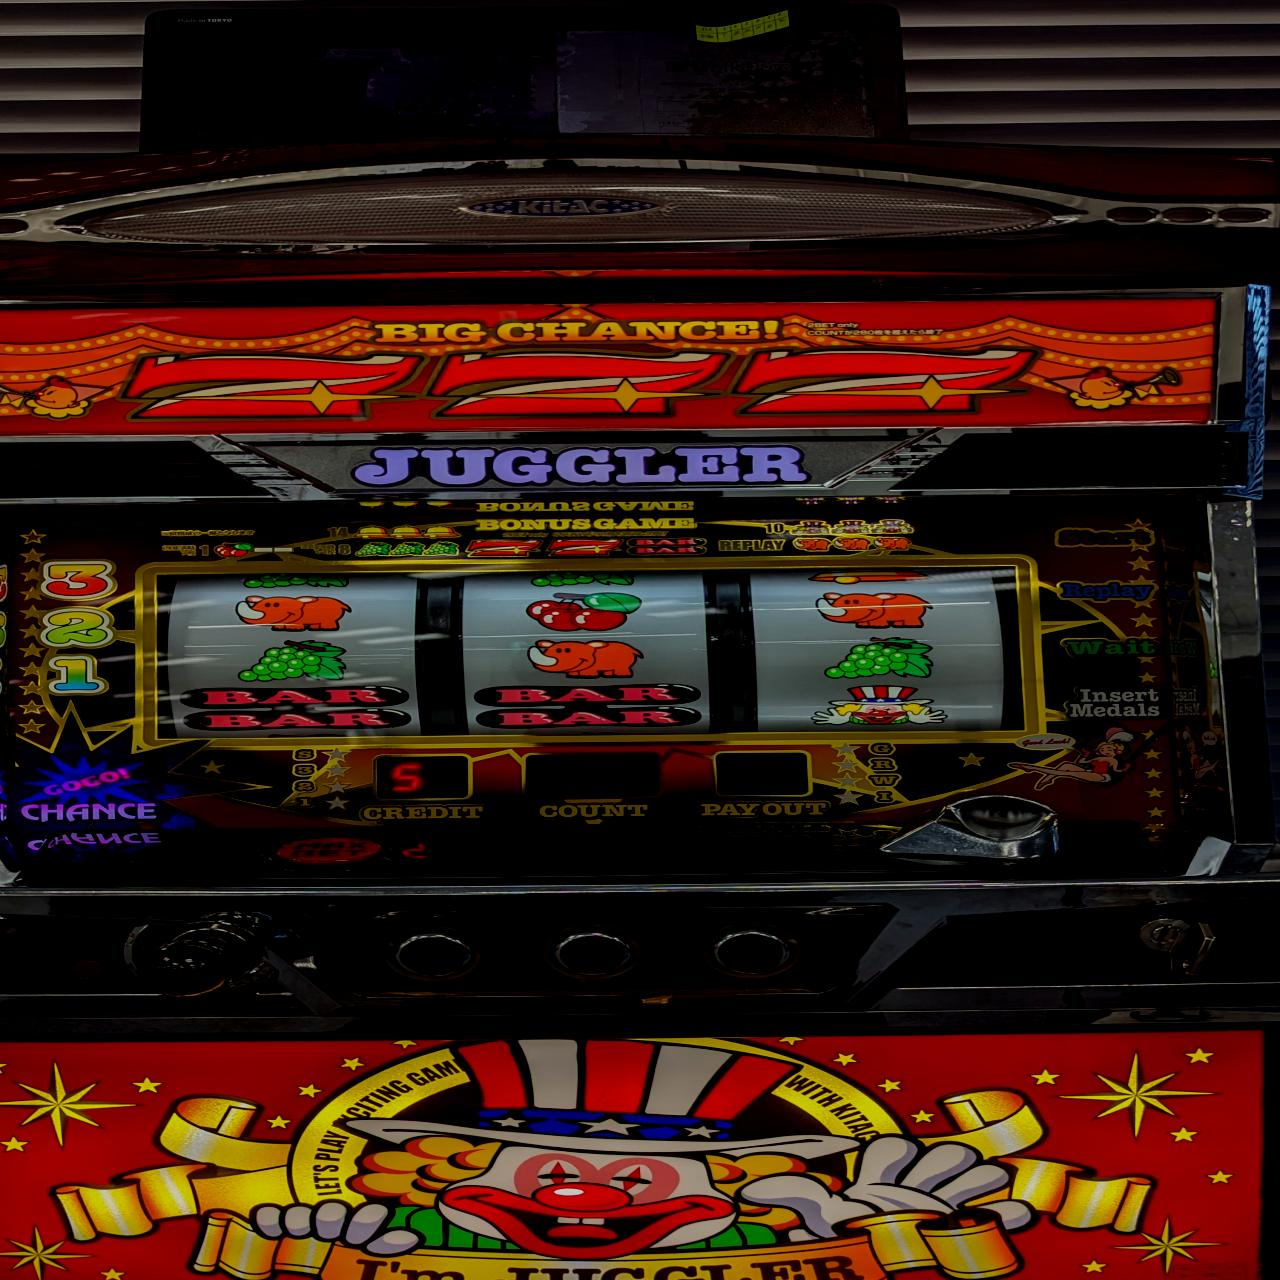8: (806, 587, 940, 632), (230, 592, 363, 634), (523, 636, 651, 680)
Display: (150, 563, 1033, 734)
bar: (171, 683, 416, 733), (471, 680, 707, 728)
cherry: (520, 591, 648, 632)
clown: (806, 683, 949, 728)
grape: (234, 636, 354, 683), (817, 634, 939, 680)
